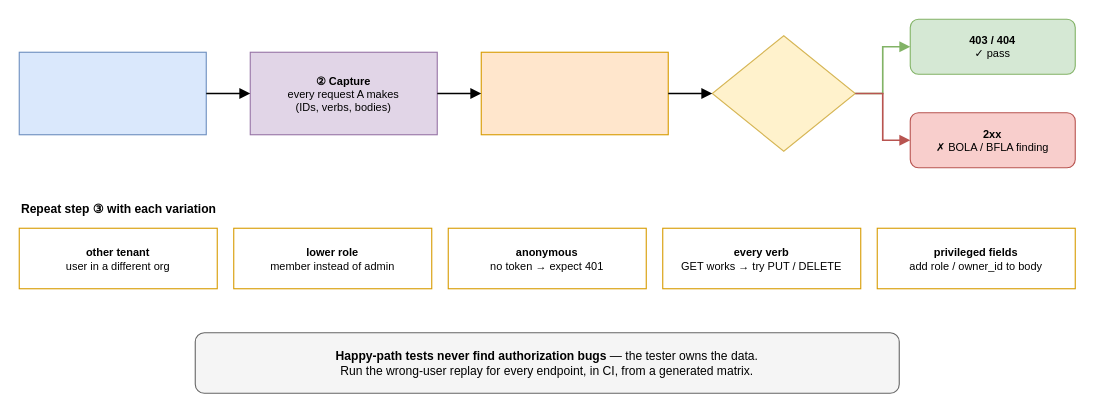
Image size: 1095x413. Some labels were removed from this diagram. Here are the shapes that lost their labels. From the top down, the box of each, then its label:
(18, 51, 206, 135): ① Act as User A create invoice, project, document …
(480, 51, 668, 135): ③ Replay same requests with User B's token
(711, 35, 855, 151): Response?
